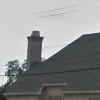Chimney: (17, 19, 49, 66)
